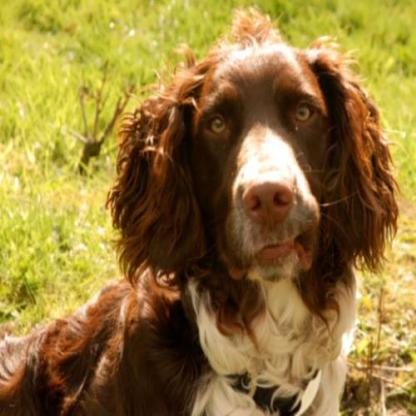Welsh_springer_spaniel: (0, 7, 398, 413)
